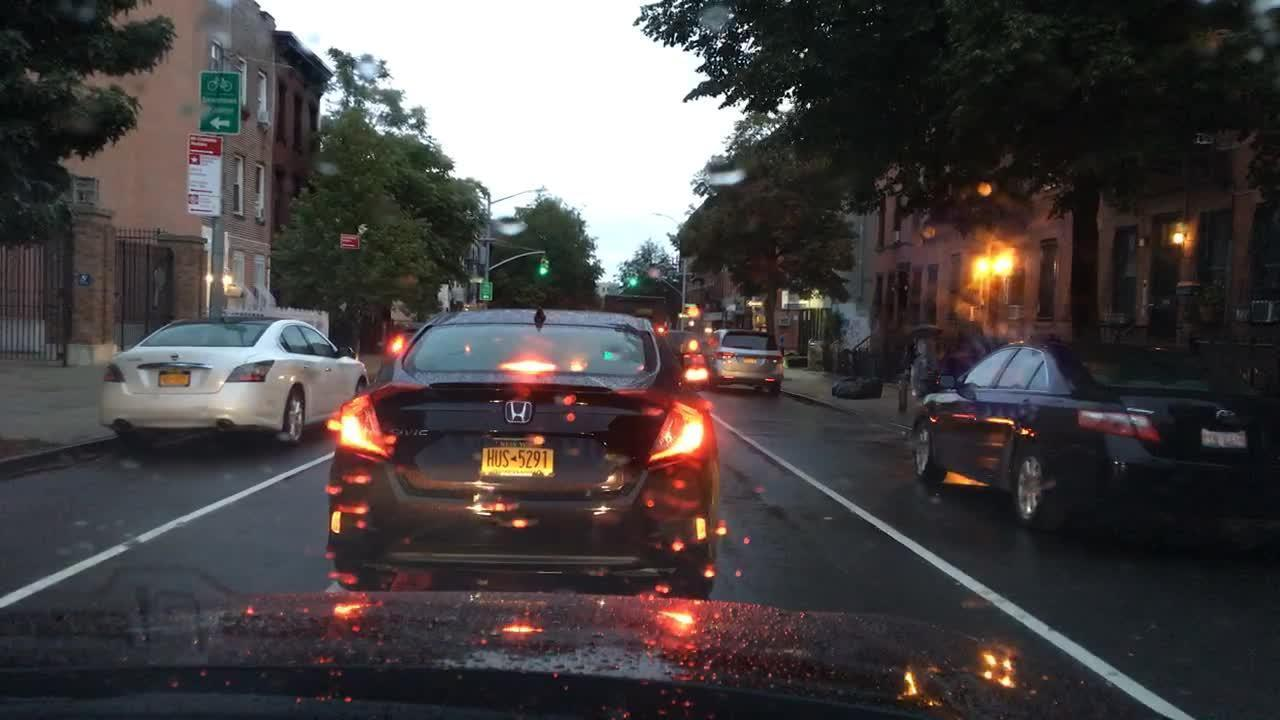Honda: (496, 389, 546, 442)
Nissan: (162, 344, 186, 367)
